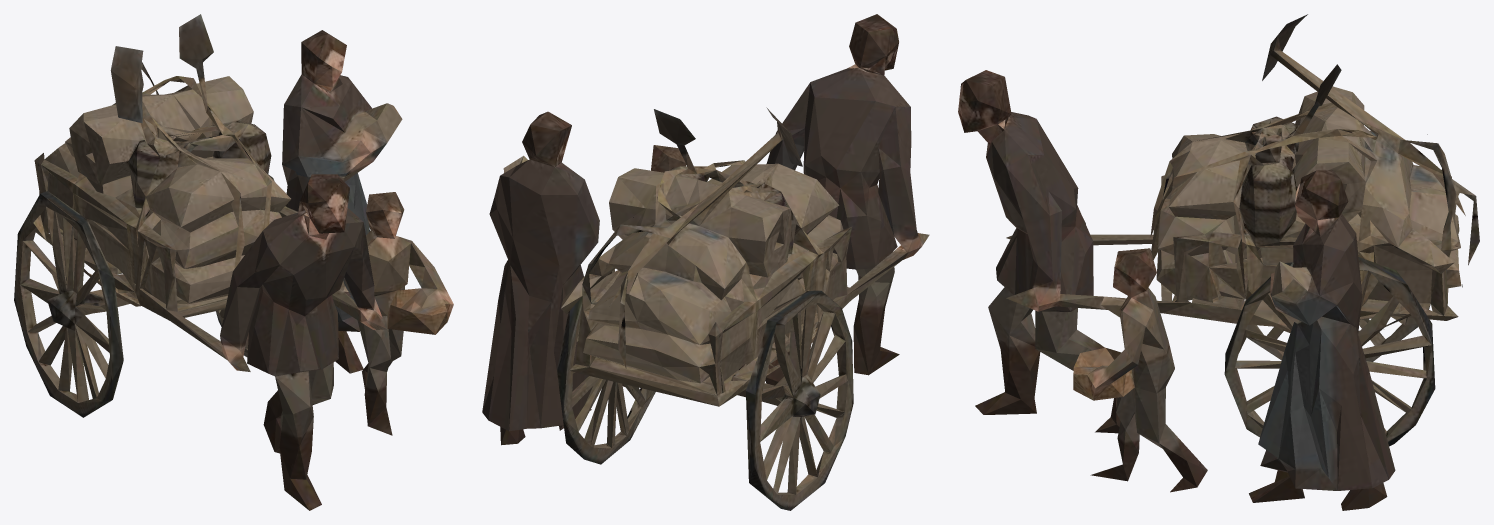
Rendered from realistic-cc0.f77cec64a90b.settlers.glb.
3 renders of one model, left to right at view 1: azimuth 30°, elevation 25°; view 2: azimuth 150°, elevation 25°; view 3: azimuth 270°, elevation 25°, orthographic. The views are drawn at different scales.
Parts seen in each view (by area): view 1: settlers; view 2: settlers; view 3: settlers.
Boxes of the visible parts, x1,y1,x2,y2 form: settlers: [14, 14, 453, 510]; settlers: [482, 14, 929, 510]; settlers: [958, 14, 1479, 510].
Size of the model in its own units: 1.76 by 1.85 by 2.32.
Materials: 1 (1 with a texture image).
